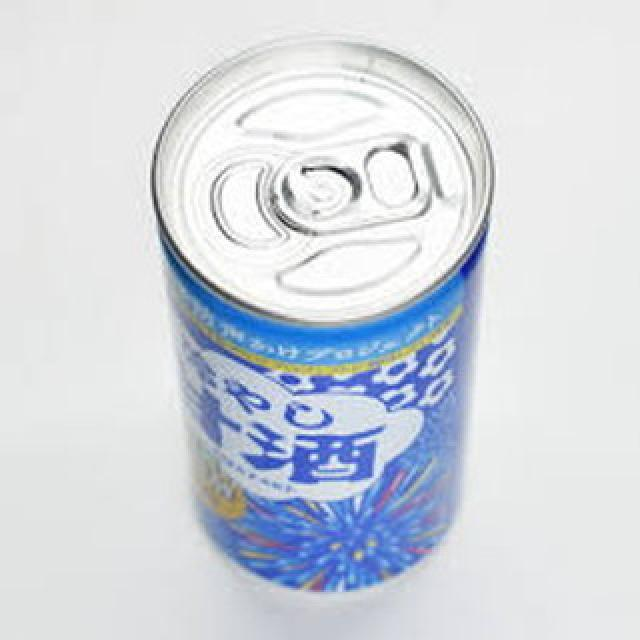recyclable: (151, 37, 498, 598)
